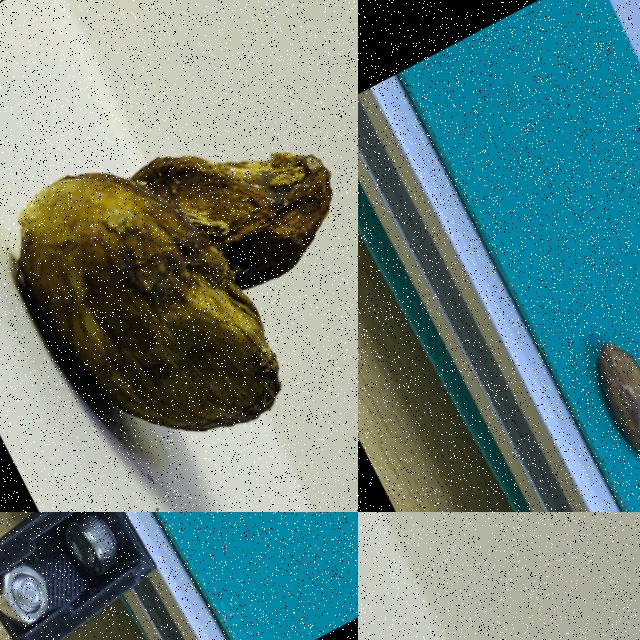Agglomerated_cocoabeans: (0, 0, 357, 511)
Fine_cocoabeans: (72, 512, 323, 591)
Flat_cocoabeans: (518, 265, 639, 511), (358, 512, 419, 639)
